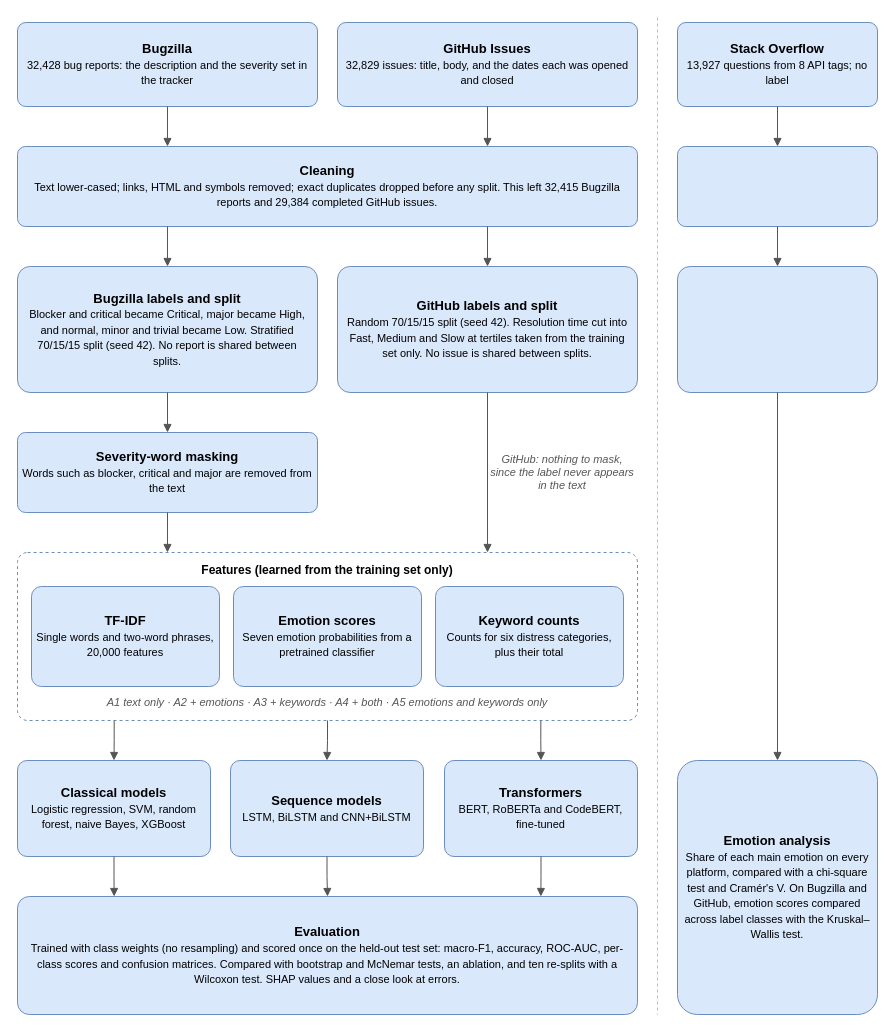
The diagram is 895 pixels wide and 1033 high, and some of its shapes have lost their labels. Here are the shapes that lost their labels. From the top down, the centre of each, then its label:
At pixel 777 186: "Cleaning Same steps; no duplicates found".
At pixel 777 329: "No label Used only to compare emotions across the three platforms".
